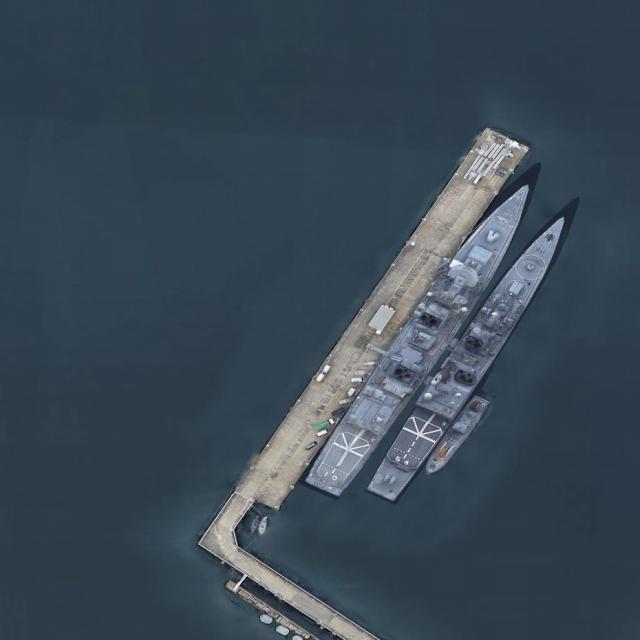Destroyer: (294, 171, 553, 504), (365, 206, 578, 508)
Dock: (233, 120, 531, 518)
Other Ship: (256, 515, 271, 537), (248, 513, 262, 535)
Other Warship: (421, 392, 491, 481)
